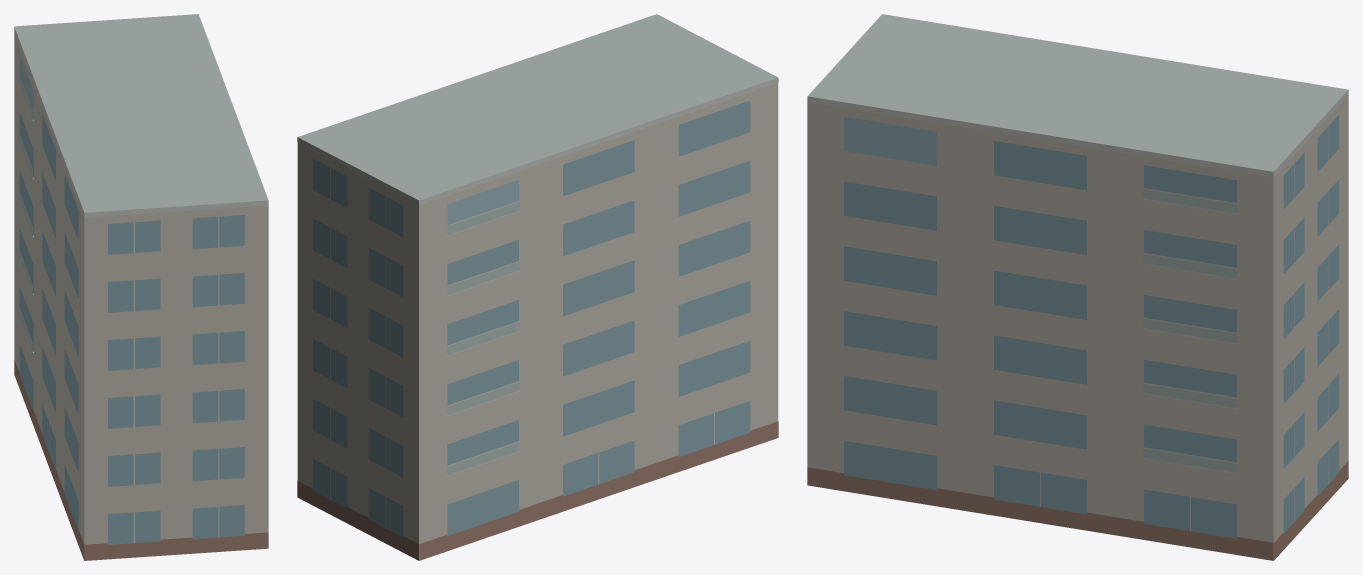
File: survey-upis-32899683.glb
The picture shows the model from 3 angles, left to right: view 1: azimuth 30°, elevation 25°; view 2: azimuth 150°, elevation 25°; view 3: azimuth 270°, elevation 25°; orthographic projection. The views are drawn at different scales.
Visible parts, largest first — view 1: survey-upis-32899683.tmp; view 2: survey-upis-32899683.tmp; view 3: survey-upis-32899683.tmp.
Boxes of the visible parts, left/top/right/bottom form: survey-upis-32899683.tmp: left=14, top=14, right=268, bottom=560; survey-upis-32899683.tmp: left=297, top=14, right=778, bottom=560; survey-upis-32899683.tmp: left=807, top=14, right=1348, bottom=560.
Size of the model in its own units: 14.98 by 17.2 by 21.69.
